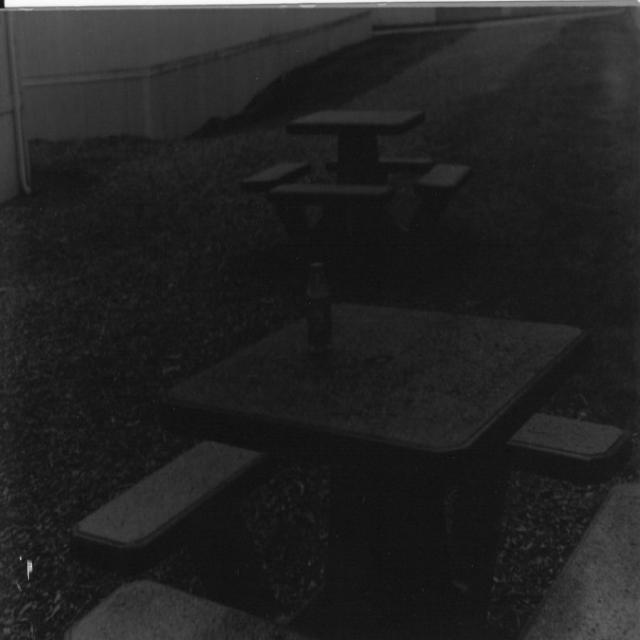Table: (156, 246, 592, 565), (286, 93, 430, 205)
chair: (69, 418, 261, 577), (521, 414, 637, 640), (52, 556, 281, 640), (514, 362, 624, 489), (265, 167, 400, 229), (421, 122, 494, 224), (234, 144, 299, 209)
